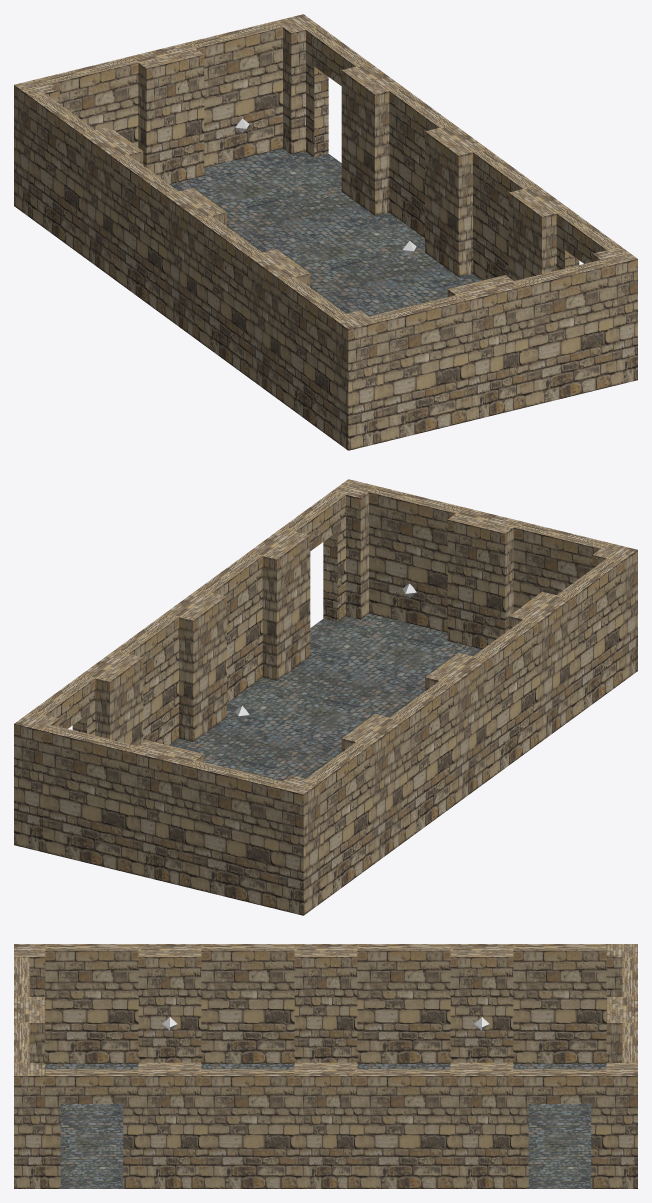
Rendered from 1_chestRoom.fbx.
The picture shows the model from 3 angles, top to bottom: view 1: azimuth 30°, elevation 25°; view 2: azimuth 150°, elevation 25°; view 3: azimuth 270°, elevation 25°; orthographic projection. The views are drawn at different scales.
Visible parts, largest first — view 1: Cube_2, Plane; view 2: Cube_2, Plane; view 3: Cube_2, Plane.
Boxes of the visible parts, x1,y1,x2,y2 form: Cube_2: (14, 14, 637, 450); Plane: (169, 148, 482, 316); Cube_2: (14, 479, 637, 915); Plane: (169, 613, 482, 781); Cube_2: (14, 944, 637, 1188); Plane: (45, 1063, 606, 1188).
Size of the model in its own units: 20 by 8 by 40.
Materials: 3 (3 with a texture image).
